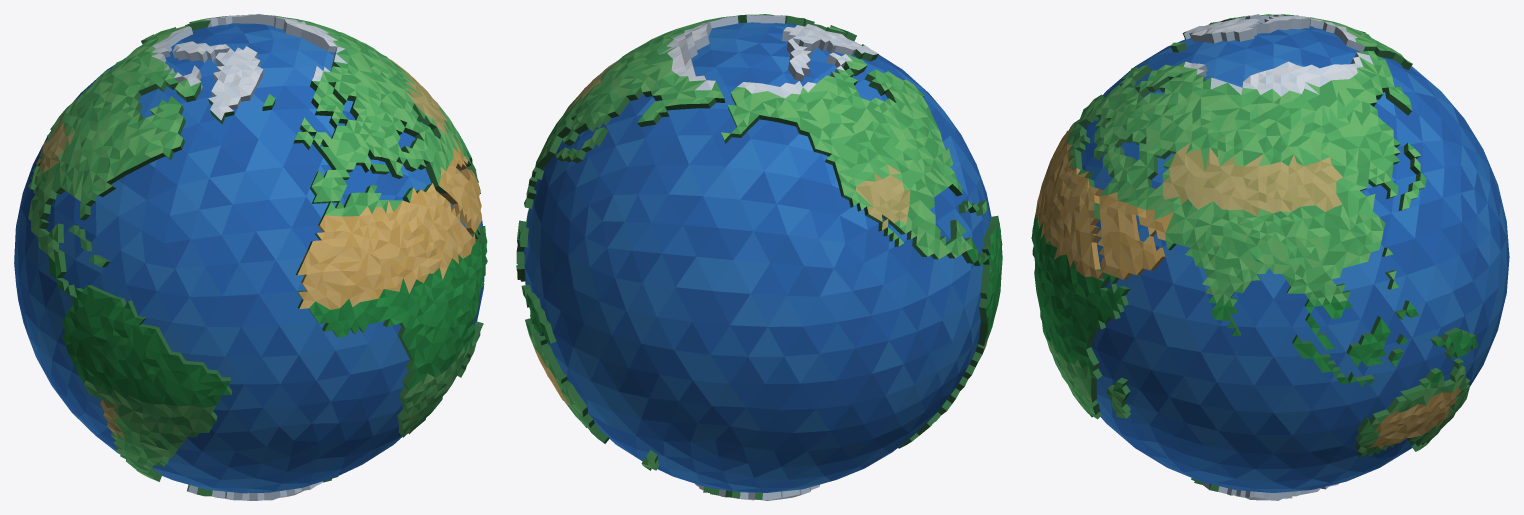
The model's file is globe.glb.
The picture shows the model from 3 angles, left to right: view 1: azimuth 30°, elevation 25°; view 2: azimuth 150°, elevation 25°; view 3: azimuth 270°, elevation 25°; orthographic projection.
Visible parts, largest first — view 1: Ocean, Land; view 2: Ocean, Land; view 3: Land, Ocean.
Part boxes in pixels (x1,y1,x2,y2): Ocean: [14, 23, 484, 493]; Land: [28, 14, 487, 500]; Ocean: [524, 22, 991, 492]; Land: [516, 14, 1002, 500]; Land: [1031, 14, 1477, 500]; Ocean: [1081, 23, 1509, 492].
Size of the model in its own units: 2.04 by 2.08 by 2.03.
